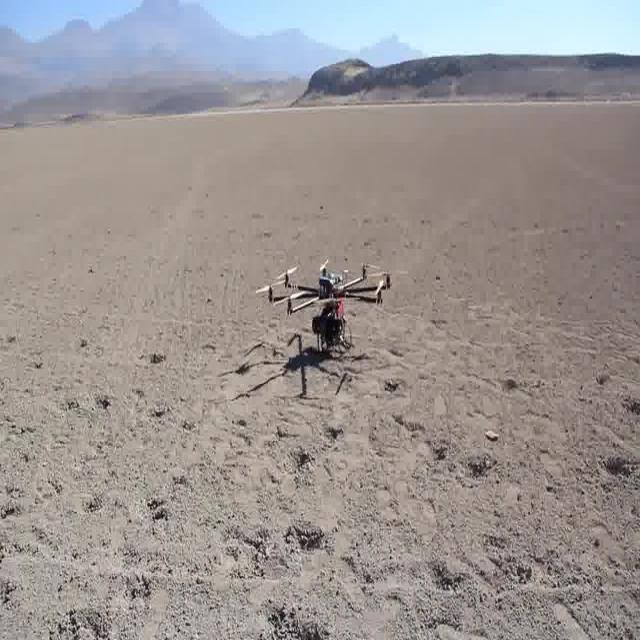drone: (255, 255, 402, 383)
